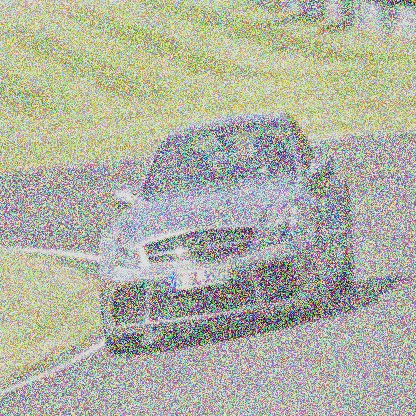Vehicle: (98, 111, 356, 357)
